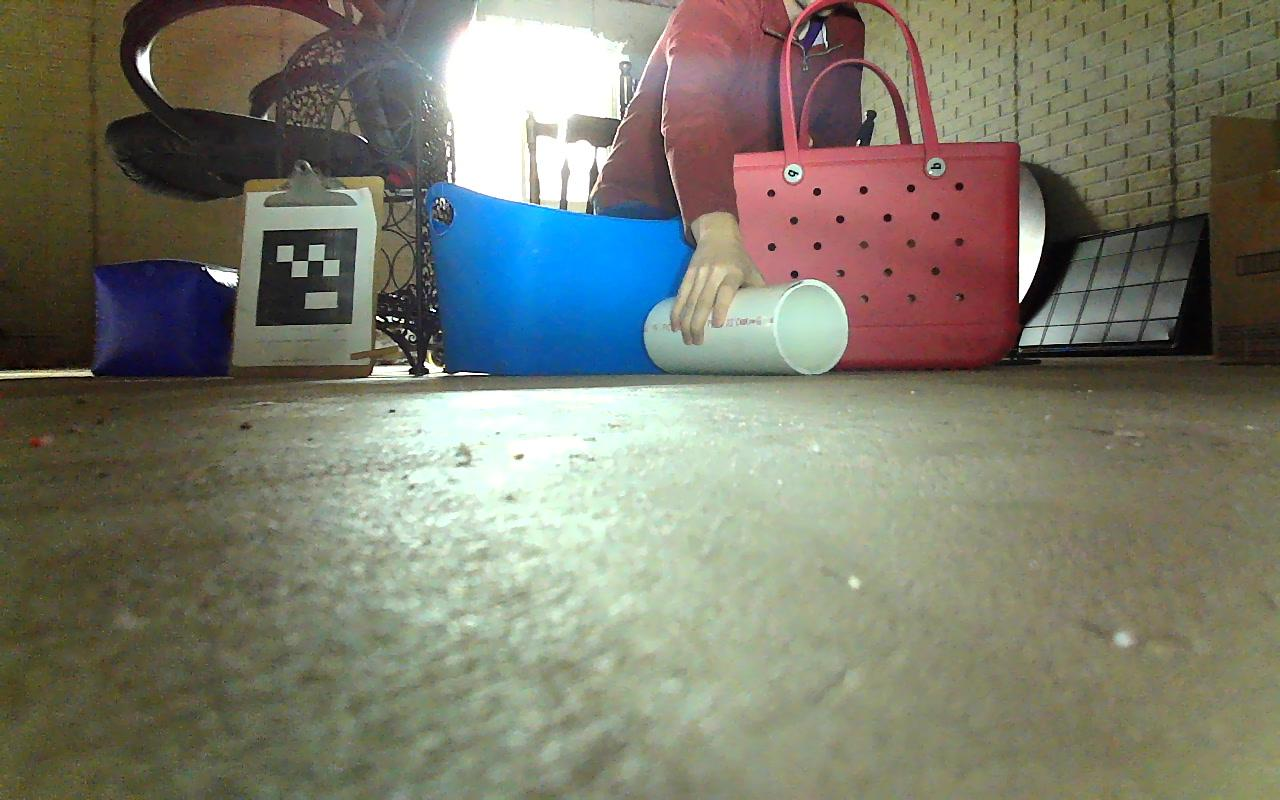coral: (644, 279, 848, 376)
